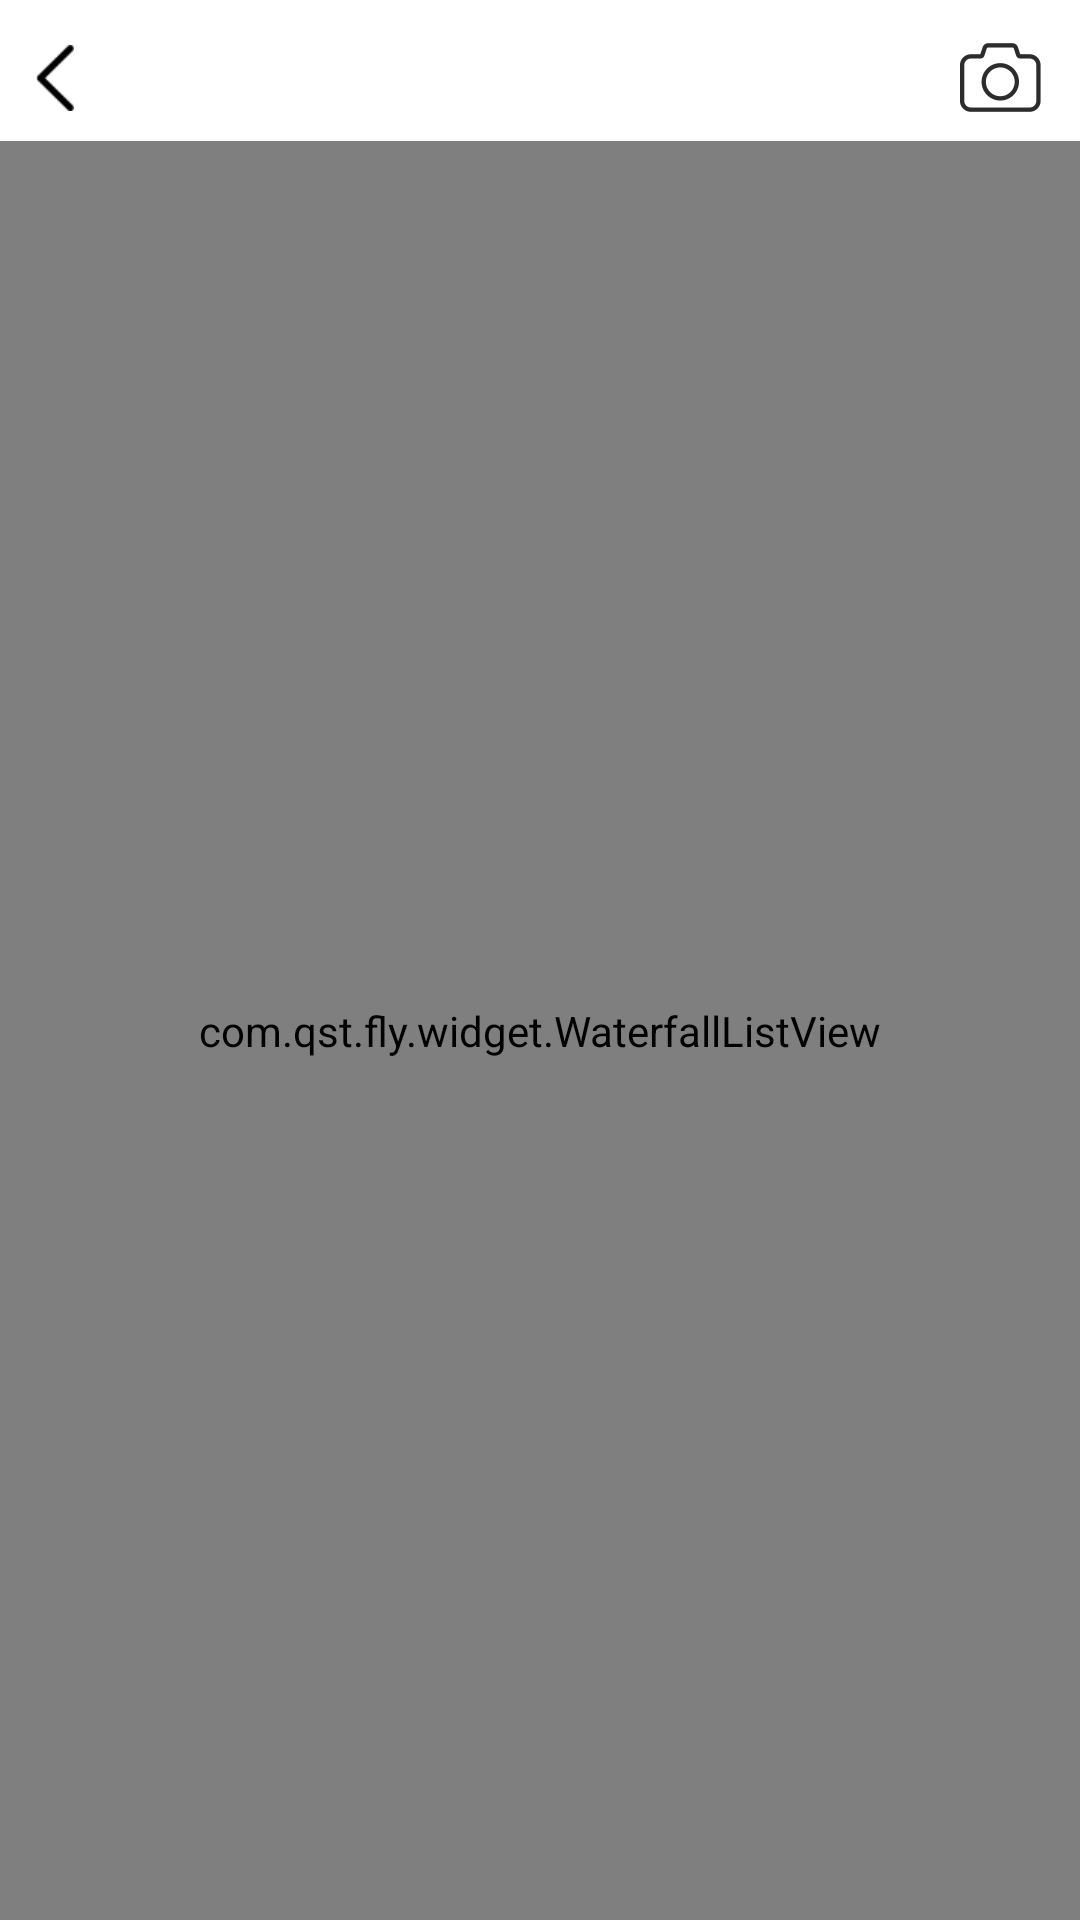

Locate icon controls on the screen. Image size 1080 x 1920, boxes as (x1, y1, x2, y2).
back: (36, 45, 74, 111)
take photo: (960, 43, 1041, 112)
